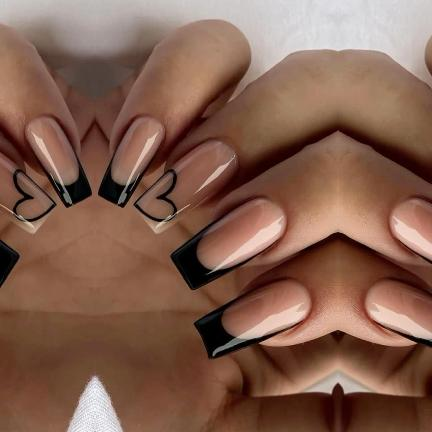Nail: (169, 196, 286, 290), (131, 140, 238, 235), (192, 278, 311, 360), (96, 115, 165, 208), (23, 115, 92, 208), (363, 278, 432, 349), (0, 152, 57, 235), (388, 196, 432, 265), (0, 240, 19, 288)
